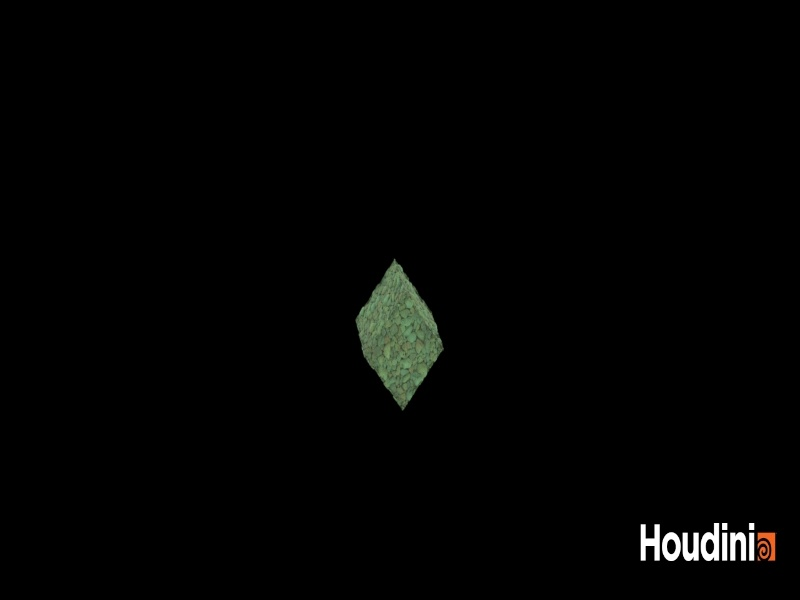waste: (337, 239, 462, 427)
